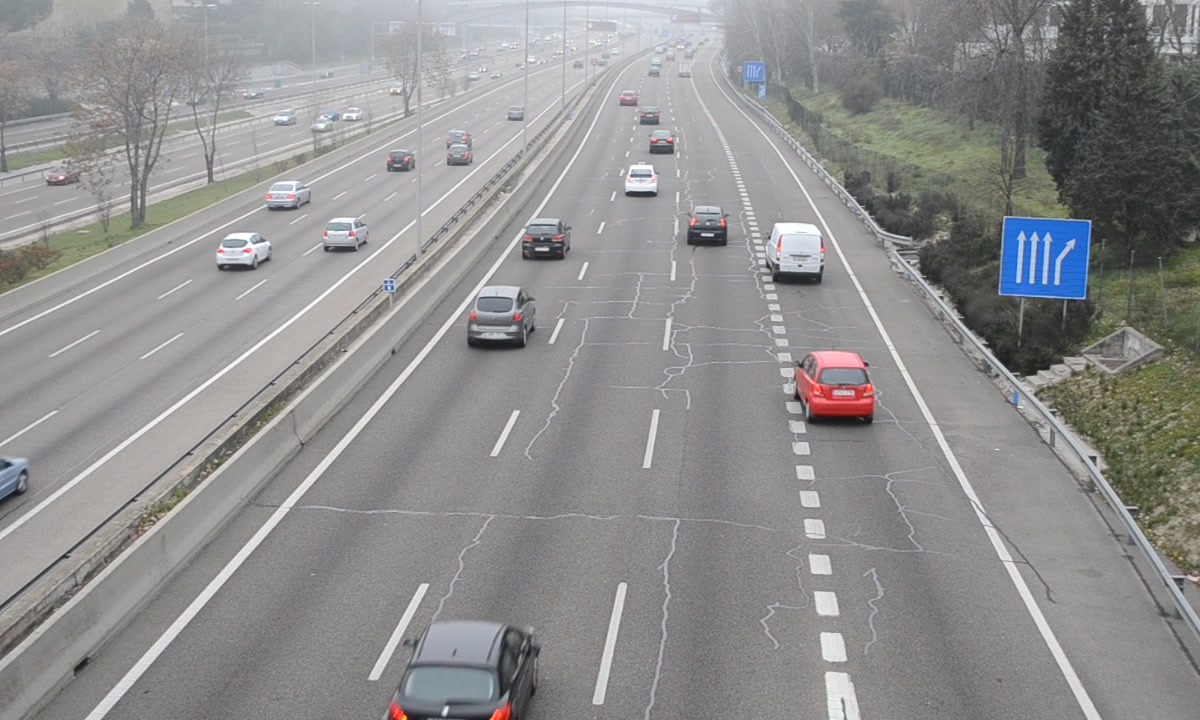car: (387, 620, 540, 720), (793, 349, 875, 417), (469, 286, 535, 345), (523, 218, 571, 256), (687, 205, 726, 243), (623, 161, 660, 198), (651, 127, 675, 155)
van: (769, 222, 827, 281)
